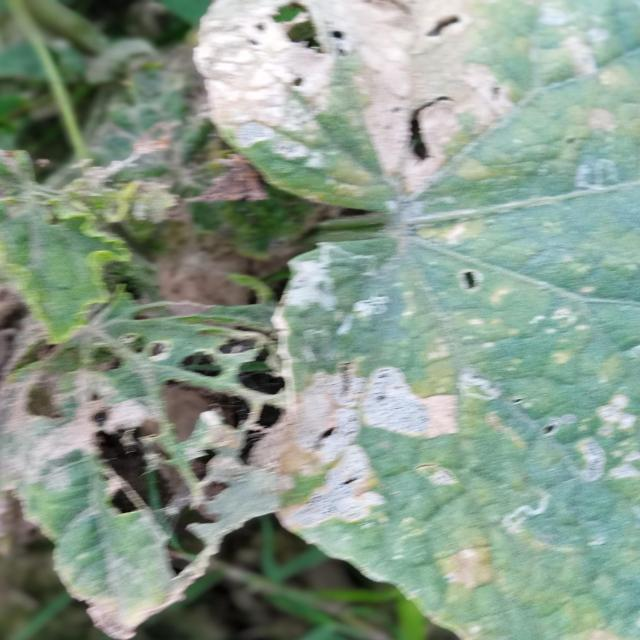cucumber_anthracnose: (203, 3, 633, 173), (24, 314, 283, 594), (304, 369, 627, 509), (389, 191, 630, 341)
